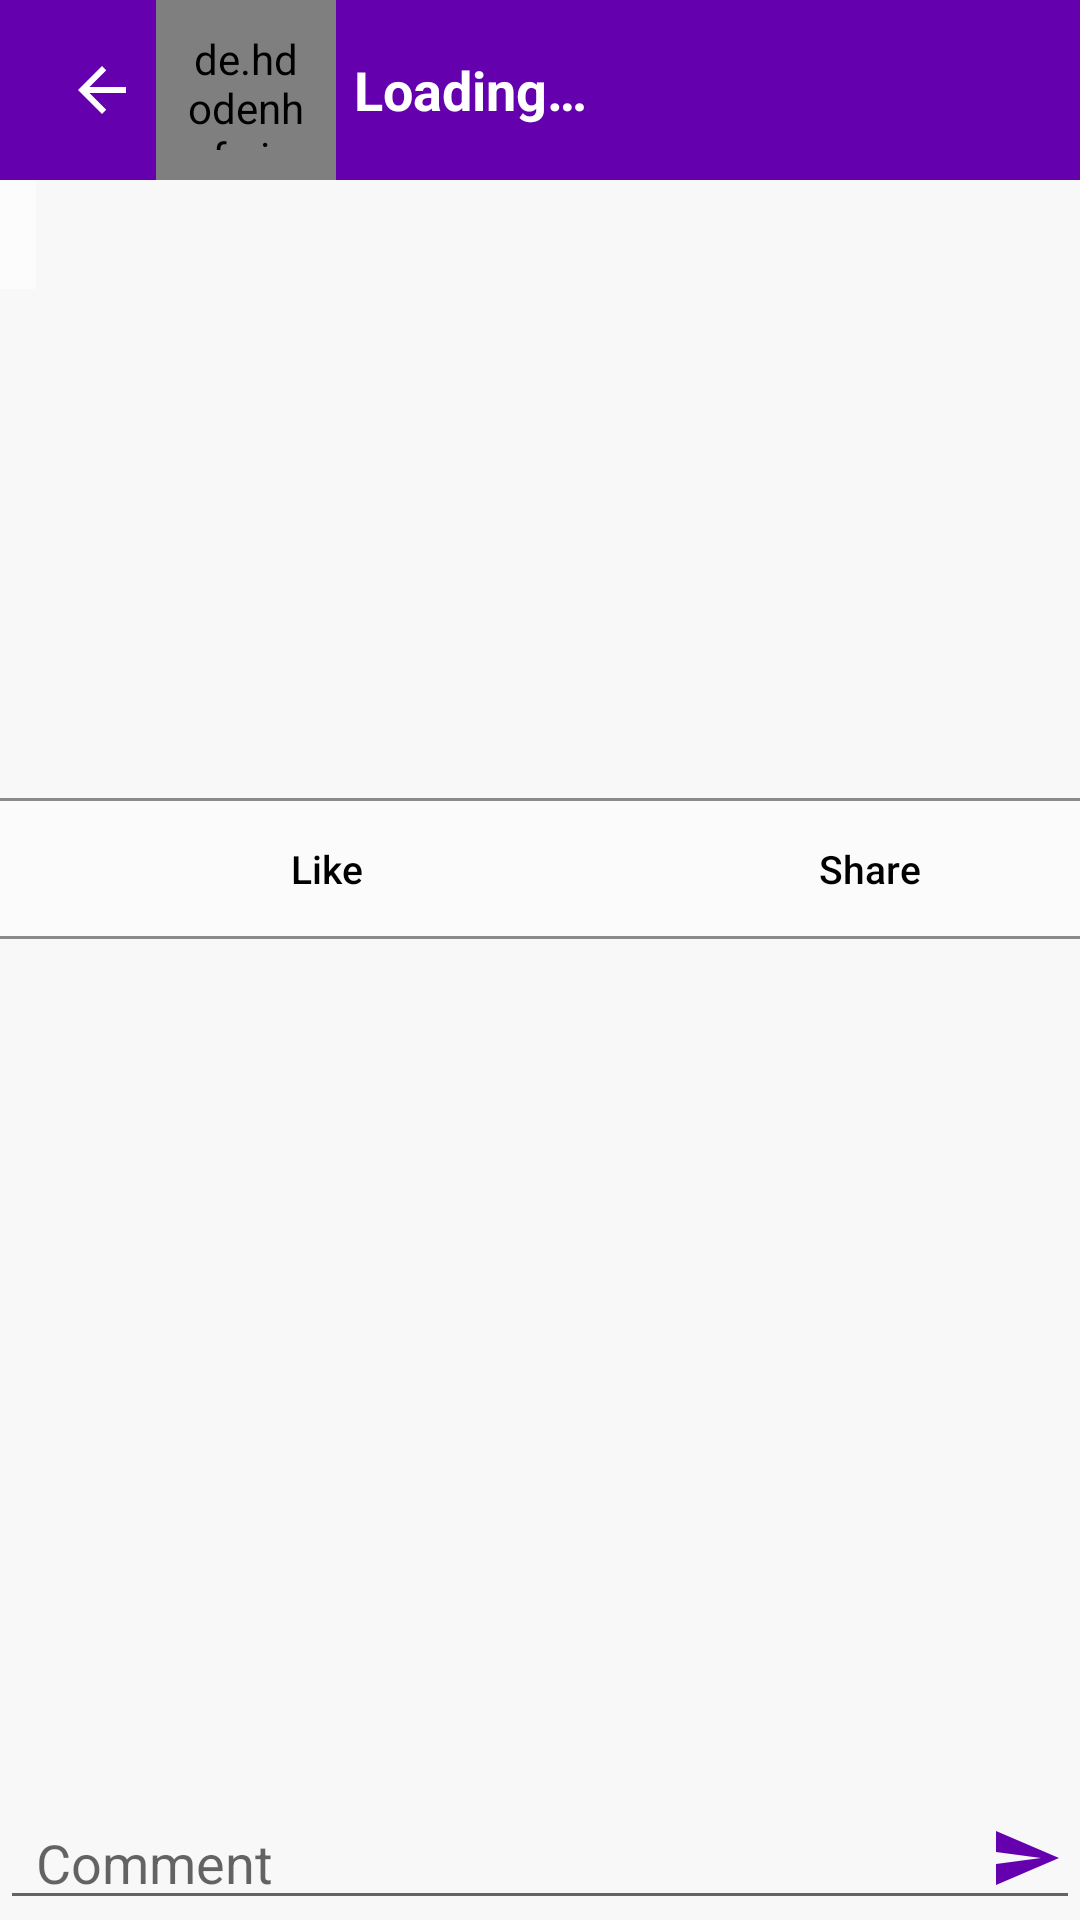

Where to tap for icons on this 1080 x 1920 app screen, as [x,y]:
back navigation: [102,90]
send: [1027,1858]
